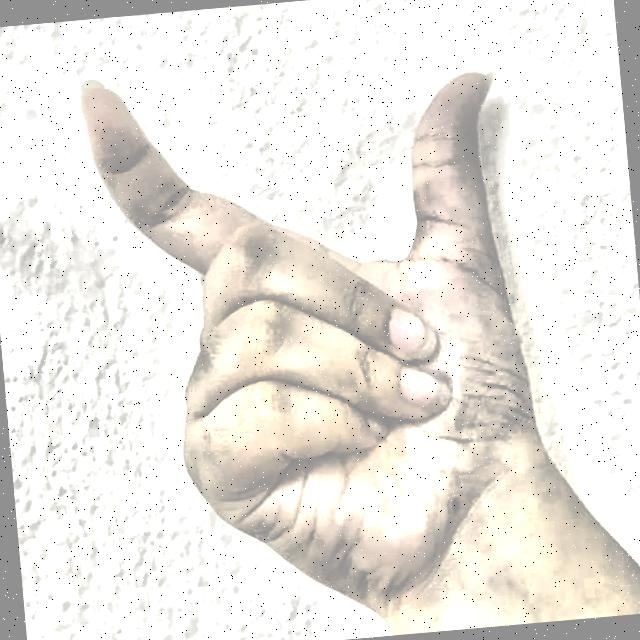ChandraBindu: (60, 4, 589, 638)
